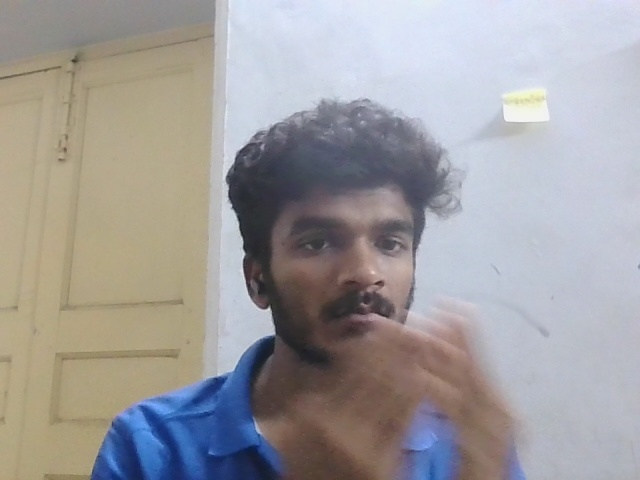Iloveyou: (274, 296, 545, 480)
